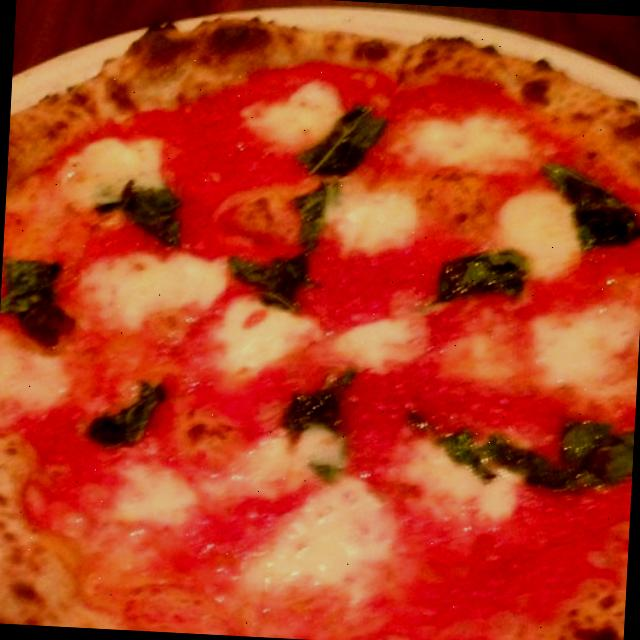basil: (230, 172, 334, 314), (522, 416, 636, 494), (550, 159, 640, 251), (0, 256, 80, 356), (302, 105, 390, 181), (87, 376, 166, 450), (432, 246, 526, 307), (285, 368, 360, 438), (120, 184, 183, 248), (444, 430, 516, 464)
cheese: (254, 477, 396, 603), (72, 245, 228, 335), (402, 433, 527, 525), (526, 301, 640, 395), (209, 294, 321, 384), (57, 132, 163, 225), (388, 108, 535, 175), (212, 425, 332, 505), (232, 77, 344, 157), (494, 186, 584, 284), (328, 313, 432, 377), (334, 192, 416, 258), (119, 466, 194, 524)
pizza: (0, 19, 640, 640)
